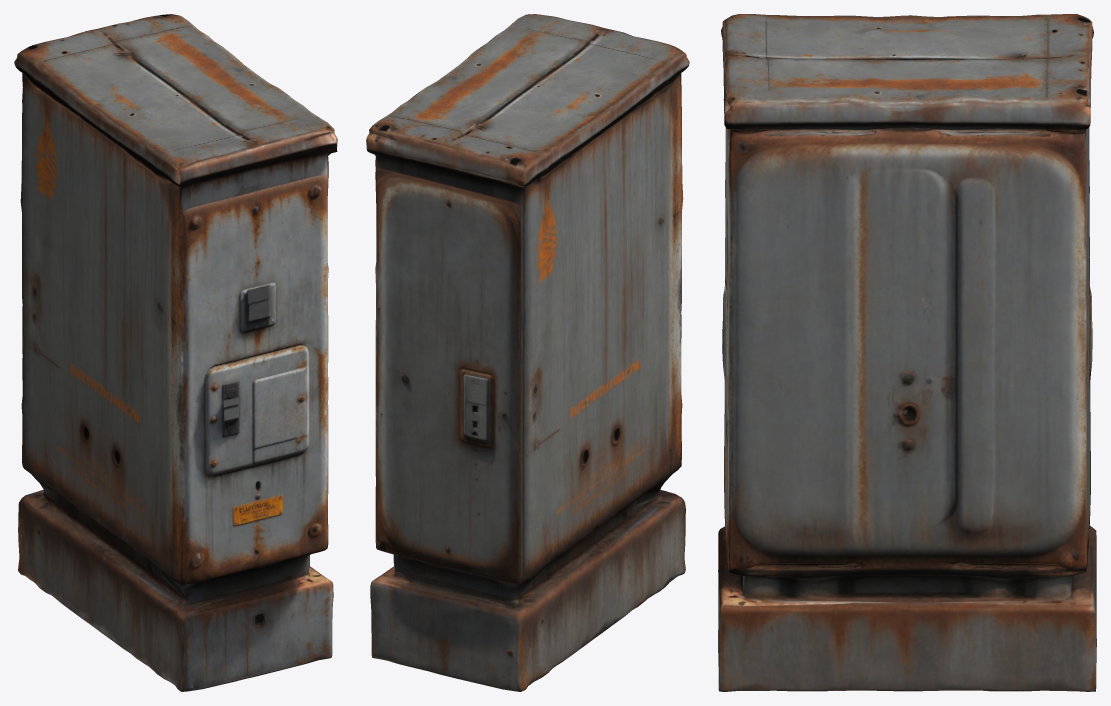
File: Utility_Box_with_Graf_0223104953_texture.fbx
3 views of the same model, side by side, from view 1: azimuth 30°, elevation 25°; view 2: azimuth 150°, elevation 25°; view 3: azimuth 270°, elevation 25° (orthographic). The views are drawn at different scales.
Visible parts, largest first — view 1: Mesh1; view 2: Mesh1; view 3: Mesh1.
Boxes of the visible parts, x1,y1,x2,y2 form: Mesh1: (14,14,337,691); Mesh1: (366,14,689,691); Mesh1: (718,14,1096,691).
Size of the model in its own units: 64.77 by 200 by 114.
Materials: 1 (1 with a texture image).
